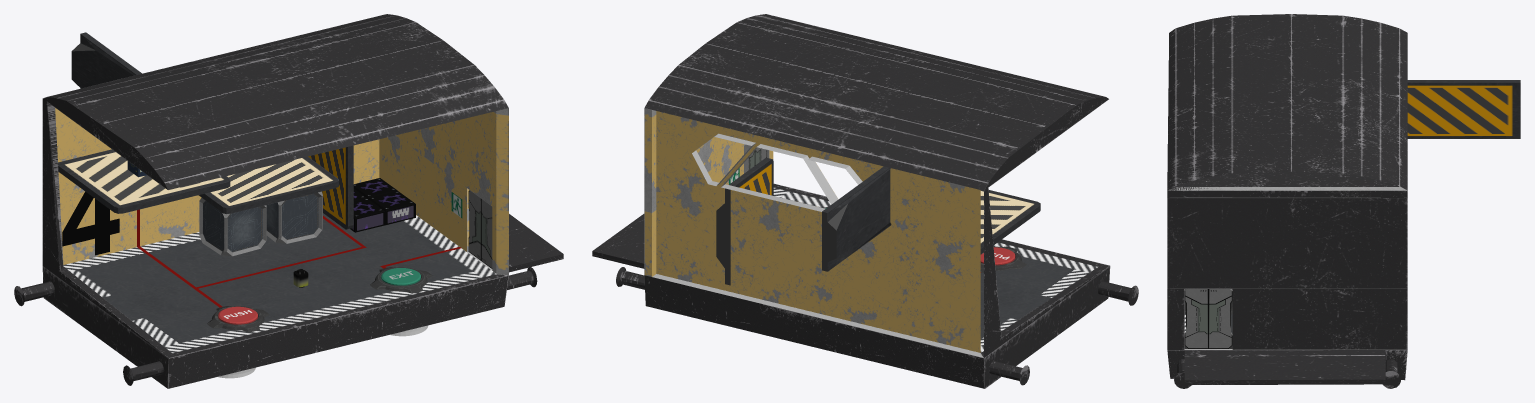
File: level4.obj
3 renders of one model, left to right at view 1: azimuth 30°, elevation 25°; view 2: azimuth 150°, elevation 25°; view 3: azimuth 270°, elevation 25°, orthographic. The views are drawn at different scales.
Visible parts, largest first — view 1: F_floor_1, R_roof_1.011, W_back_wall_1.011, W_right_wall_down_1.011, W_left_wall_1.011, Y_decoBox4, W_right_wall_left_1.011, S_corner_platform_1.014, S_corner_platform_1.016, S_chest_1.009, M_45_question_platform_46, M_45_question_platform_45 (+10 smaller); view 2: W_back_wall_1.011, R_roof_1.011, F_floor_1, W_left_wall_1.011, M_45_question_platform_46, W_right_wall_down_1.011, M_45_question_platform_45, S_corner_platform_1.014, X_Przejscie4, W_right_wall_left_1.011; view 3: R_roof_1.011, W_right_wall_down_1.011, W_right_wall_left_1.011, X_Przejscie4, M_45_question_platform_46, W_right_wall_up_1.011, F_floor_1, D_left_door_4, D_right_door_4, W_right_wall_right_1.012.
Part boxes in pixels (x1,y1,x2,y2): F_floor_1: (14, 213, 537, 388); R_roof_1.011: (47, 14, 508, 189); W_back_wall_1.011: (55, 108, 379, 264); W_right_wall_down_1.011: (395, 112, 508, 211); W_left_wall_1.011: (42, 97, 172, 357); Y_decoBox4: (199, 191, 322, 256); W_right_wall_left_1.011: (379, 135, 469, 251); S_corner_platform_1.014: (58, 149, 230, 213); S_corner_platform_1.016: (198, 156, 338, 214); S_chest_1.009: (350, 178, 415, 232); M_45_question_platform_46: (71, 32, 141, 88); M_45_question_platform_45: (308, 145, 353, 229); W_back_wall_1.011: (656, 111, 980, 352); R_roof_1.011: (644, 14, 1105, 190); F_floor_1: (616, 183, 1138, 388); W_left_wall_1.011: (984, 97, 1109, 357); M_45_question_platform_46: (822, 166, 891, 271); W_right_wall_down_1.011: (644, 115, 745, 212); M_45_question_platform_45: (716, 157, 773, 285); S_corner_platform_1.014: (980, 190, 1040, 254); X_Przejscie4: (592, 214, 644, 268); W_right_wall_left_1.011: (644, 146, 743, 276); R_roof_1.011: (1167, 14, 1407, 190); W_right_wall_down_1.011: (1167, 198, 1407, 288); W_right_wall_left_1.011: (1232, 289, 1407, 349); X_Przejscie4: (1184, 350, 1385, 385); M_45_question_platform_46: (1407, 80, 1520, 138); W_right_wall_up_1.011: (1167, 187, 1407, 197); F_floor_1: (1167, 289, 1407, 388); D_left_door_4: (1208, 289, 1232, 348); D_right_door_4: (1184, 289, 1208, 348); W_right_wall_right_1.012: (1167, 289, 1184, 349).
Bounding box in the file's own units: 14.32 × 7.33 × 10.57.
Materials: 19 (19 with a texture image).
